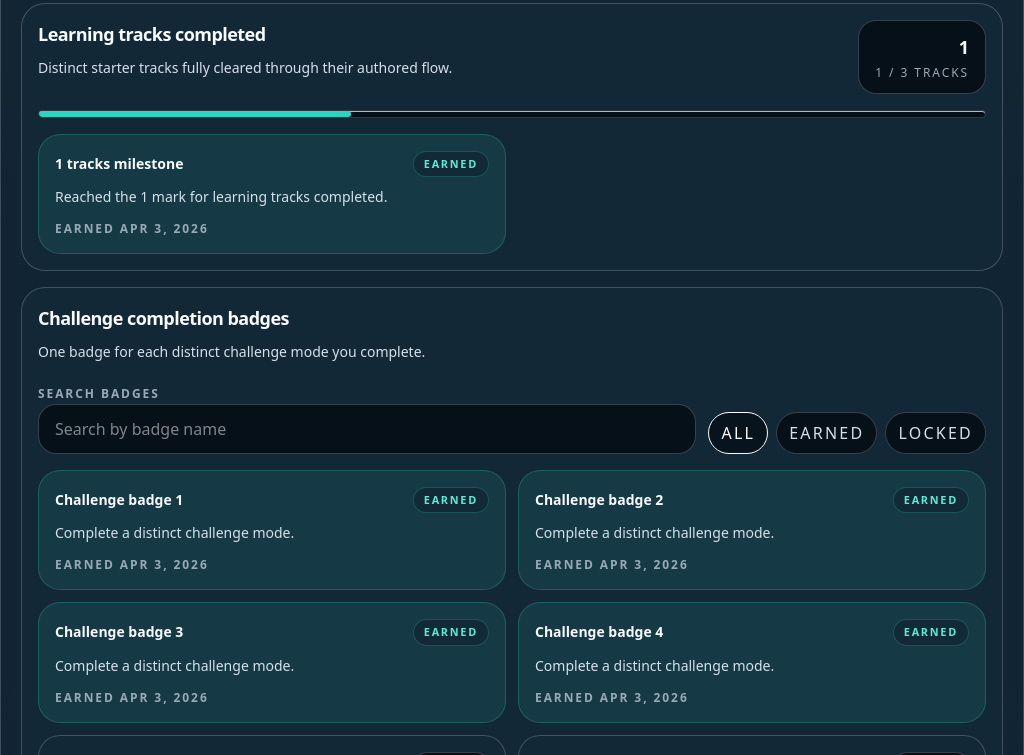
AchievementsSection › filters and searches named badge lists without expanding the long list
(page scrolled)
expect the text "Challenge badge 7" is not shown: met
Click the button "Locked" at (936, 433), box [885,412,986,454]
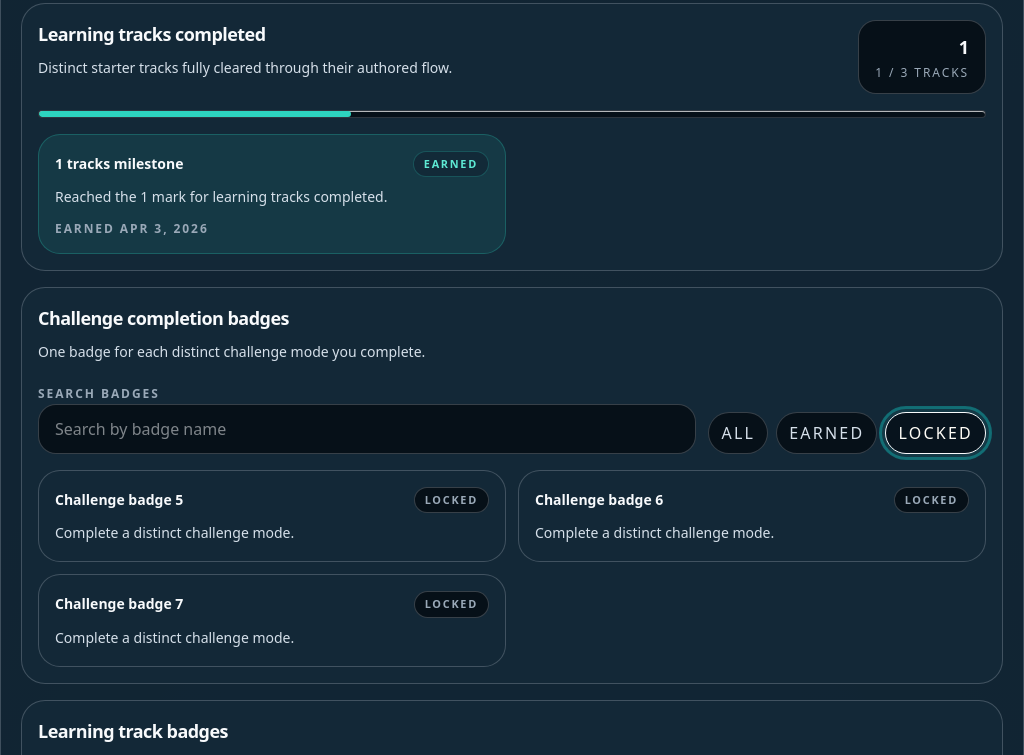
expect the text "Challenge badge 5" is shown: met, box [55,490,183,510]
expect the text "Challenge badge 1" is gone: met
expect the text "Challenge badge 7" is shown: met, box [55,594,183,614]
Type "badge 7" into the search field labelled "Search badges" at (367, 429), box [38,404,696,454]
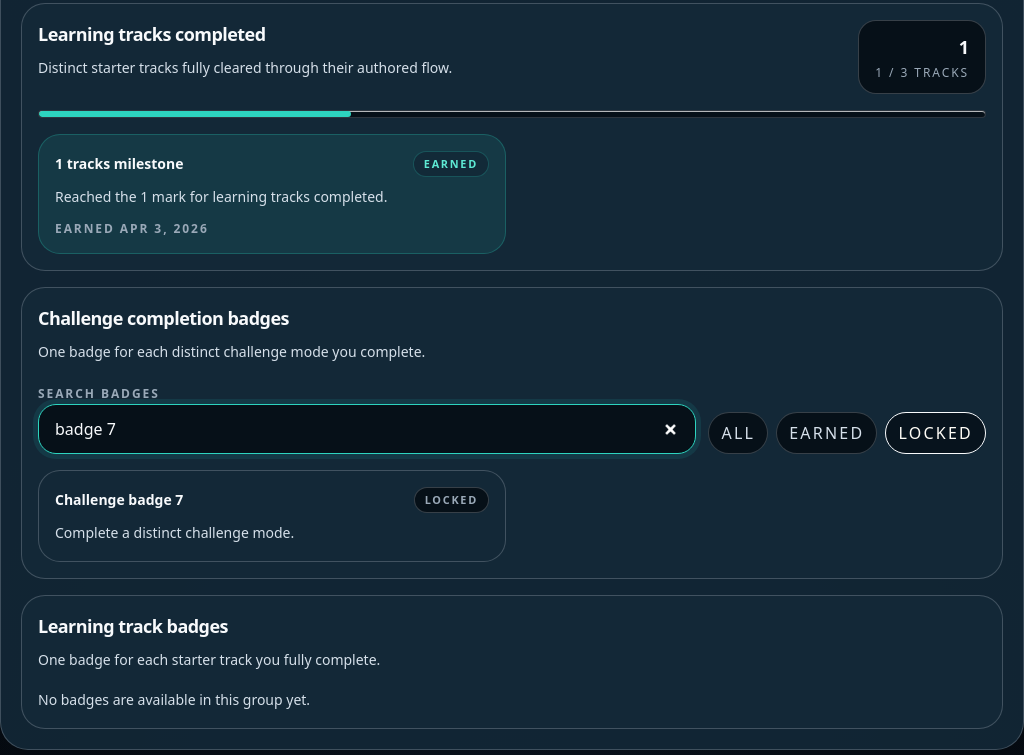
expect the text "Challenge badge 7" is shown: met, box [55,490,183,510]
expect the text "Challenge badge 5" is gone: met
